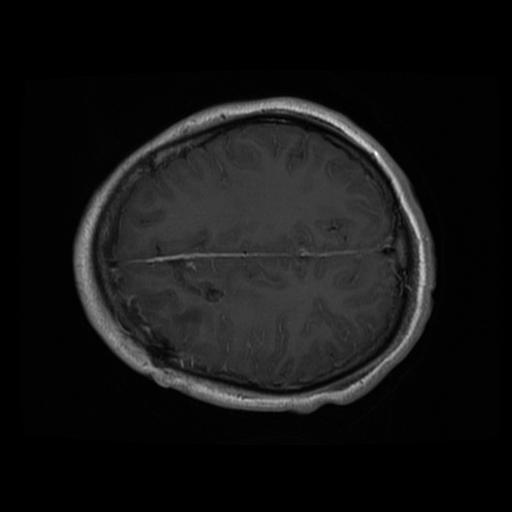glioma: (122, 287, 202, 356)
